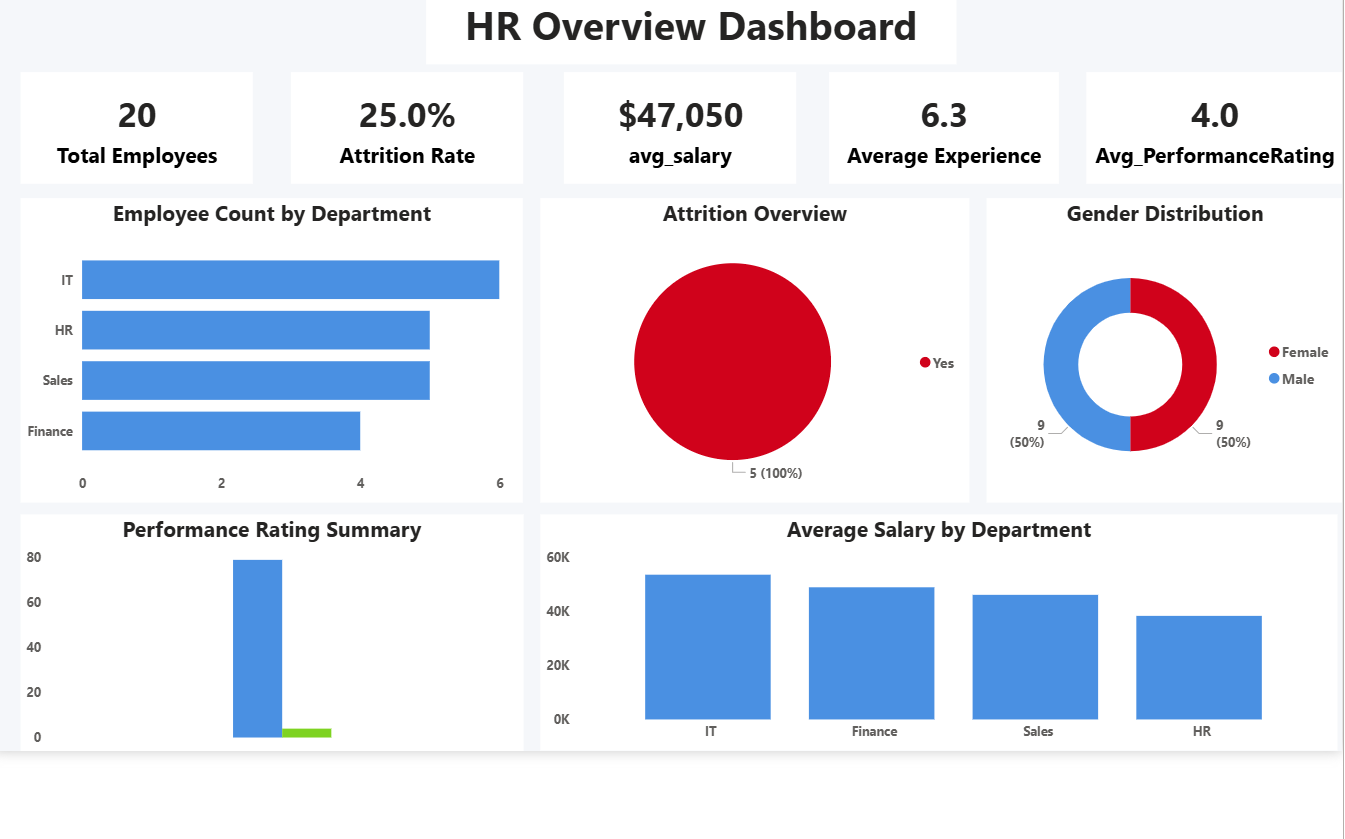

This screenshot's page, from the dashboard's own definition file:
{"tool":"powerbi","page":{"name":"OverViewDashboard","canvas":[1280,720],"ordinal":0},"visuals":[{"type":"card","fields":{"Values":["Employees.average_experience"]},"box":[792.1,76,217.7,105.6],"z":0},{"type":"card","fields":{"Values":["Employees.total_employees"]},"box":[25.8,76,220.2,105.6],"z":1000},{"type":"card","fields":{"Values":["Attrition.attrition_rate"]},"box":[282.1,76,220.2,105.6],"z":2000},{"type":"card","fields":{"Values":["Employees.avg_salary"]},"box":[541,76,220.2,105.6],"z":3000},{"type":"card","fields":{"Values":["Performance.avg_performance_ratings"]},"box":[1036.8,76,243.4,105.6],"z":4000},{"type":"barChart","title":"Employee Count by Department","fields":{"Category":["Employees.Department"],"Y":["Employees.total_employees"]},"box":[25.8,195.8,476.6,288.5],"z":5000},{"type":"clusteredColumnChart","title":"Average Salary by Department","fields":{"Y":["Employees.avg_salary"],"Category":["Employees.Department"]},"box":[519.1,495.9,756,224.1],"z":6000},{"type":"donutChart","title":"Gender Distribution","fields":{"Y":["Employees.female count"],"Category":["Employees.Gender"]},"box":[941.5,195.8,338.7,288.5],"z":7000},{"type":"textbox","box":[411,0,503.1,68.5],"z":8000},{"type":"pieChart","title":"Attrition Overview","fields":{"Category":["Attrition.Attrition"],"Y":["Attrition.total_attrition"]},"box":[519.1,195.8,407,288.5],"z":9000},{"type":"clusteredColumnChart","title":"Performance Rating Summary","fields":{"Y":["Sum(Performance.PerformanceRating)","Performance.Avg_PerformanceRating"]},"box":[26.1,495.3,476.6,225.2],"z":10000}]}

Visuals, with their boxes on the page's 1280x720 design canvas (x1, y1, x2, y2). These are canvas units, not pixel positions in the 1345x839 screenshot, which may show the page scaled, cropped or inside an application window:
card - Employees.average_experience: [left=792, top=76, right=1010, bottom=182]
card - Employees.total_employees: [left=26, top=76, right=246, bottom=182]
card - Attrition.attrition_rate: [left=282, top=76, right=502, bottom=182]
card - Employees.avg_salary: [left=541, top=76, right=761, bottom=182]
card - Performance.avg_performance_ratings: [left=1037, top=76, right=1280, bottom=182]
"Employee Count by Department" barChart: [left=26, top=196, right=502, bottom=484]
"Average Salary by Department" clusteredColumnChart: [left=519, top=496, right=1275, bottom=720]
"Gender Distribution" donutChart: [left=942, top=196, right=1280, bottom=484]
textbox: [left=411, top=0, right=914, bottom=68]
"Attrition Overview" pieChart: [left=519, top=196, right=926, bottom=484]
"Performance Rating Summary" clusteredColumnChart: [left=26, top=495, right=503, bottom=720]
